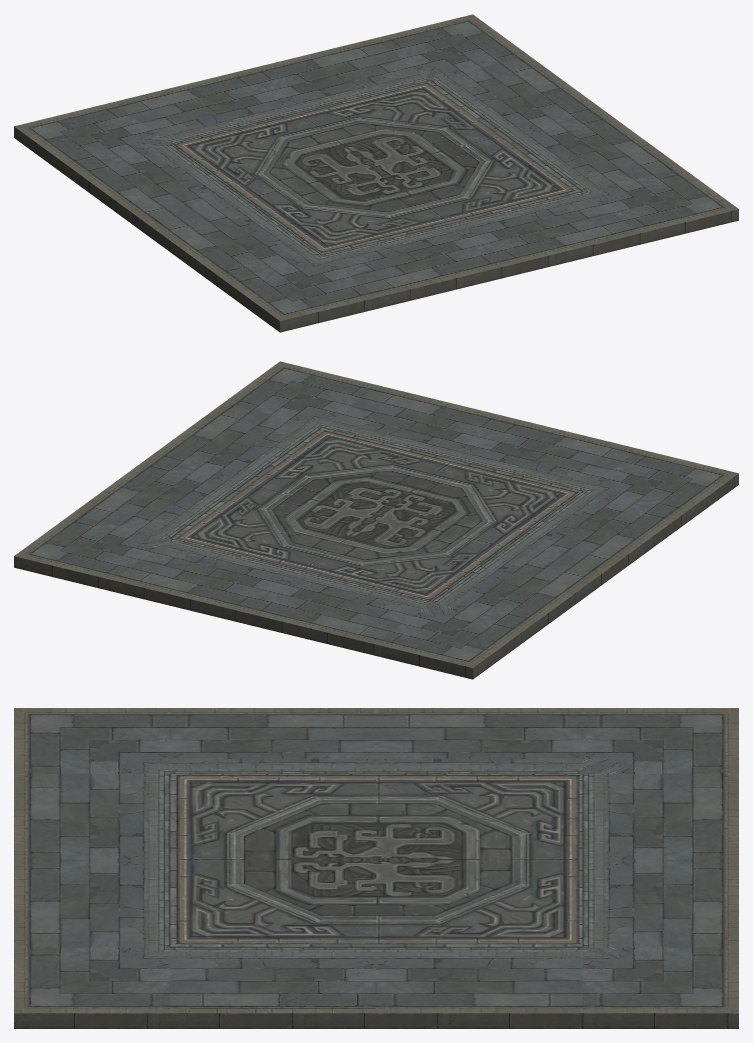
File: qx_zhucheng_dimian_e.FBX
3 renders of one model, top to bottom at view 1: azimuth 30°, elevation 25°; view 2: azimuth 150°, elevation 25°; view 3: azimuth 270°, elevation 25°, orthographic. The views are drawn at different scales.
Parts seen in each view (by area): view 1: DrawCall_0389_003; view 2: DrawCall_0389_003; view 3: DrawCall_0389_003.
Part boxes in pixels (bbox=[...]): DrawCall_0389_003: bbox=[14, 14, 738, 332]; DrawCall_0389_003: bbox=[14, 361, 738, 679]; DrawCall_0389_003: bbox=[14, 708, 738, 1028].
Bounding box in the file's own units: 34.25 × 0.8208 × 34.4.
